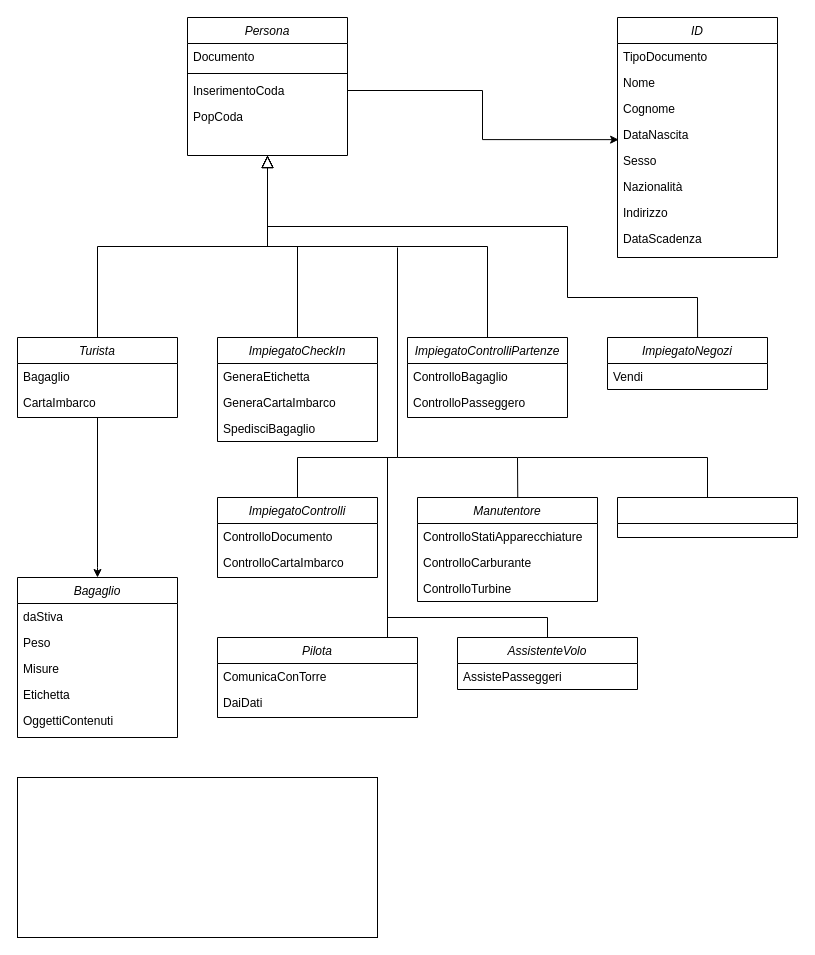
Some shapes in this 815 by 955 pixel diagram are drawn without their labels. Each missing label, with the centre of its shape:
"Aggiunte mancanti Conto corrente --> per passeggero; Stato passeggero;" goes at (197,857).
"Autista" goes at (707,517).
